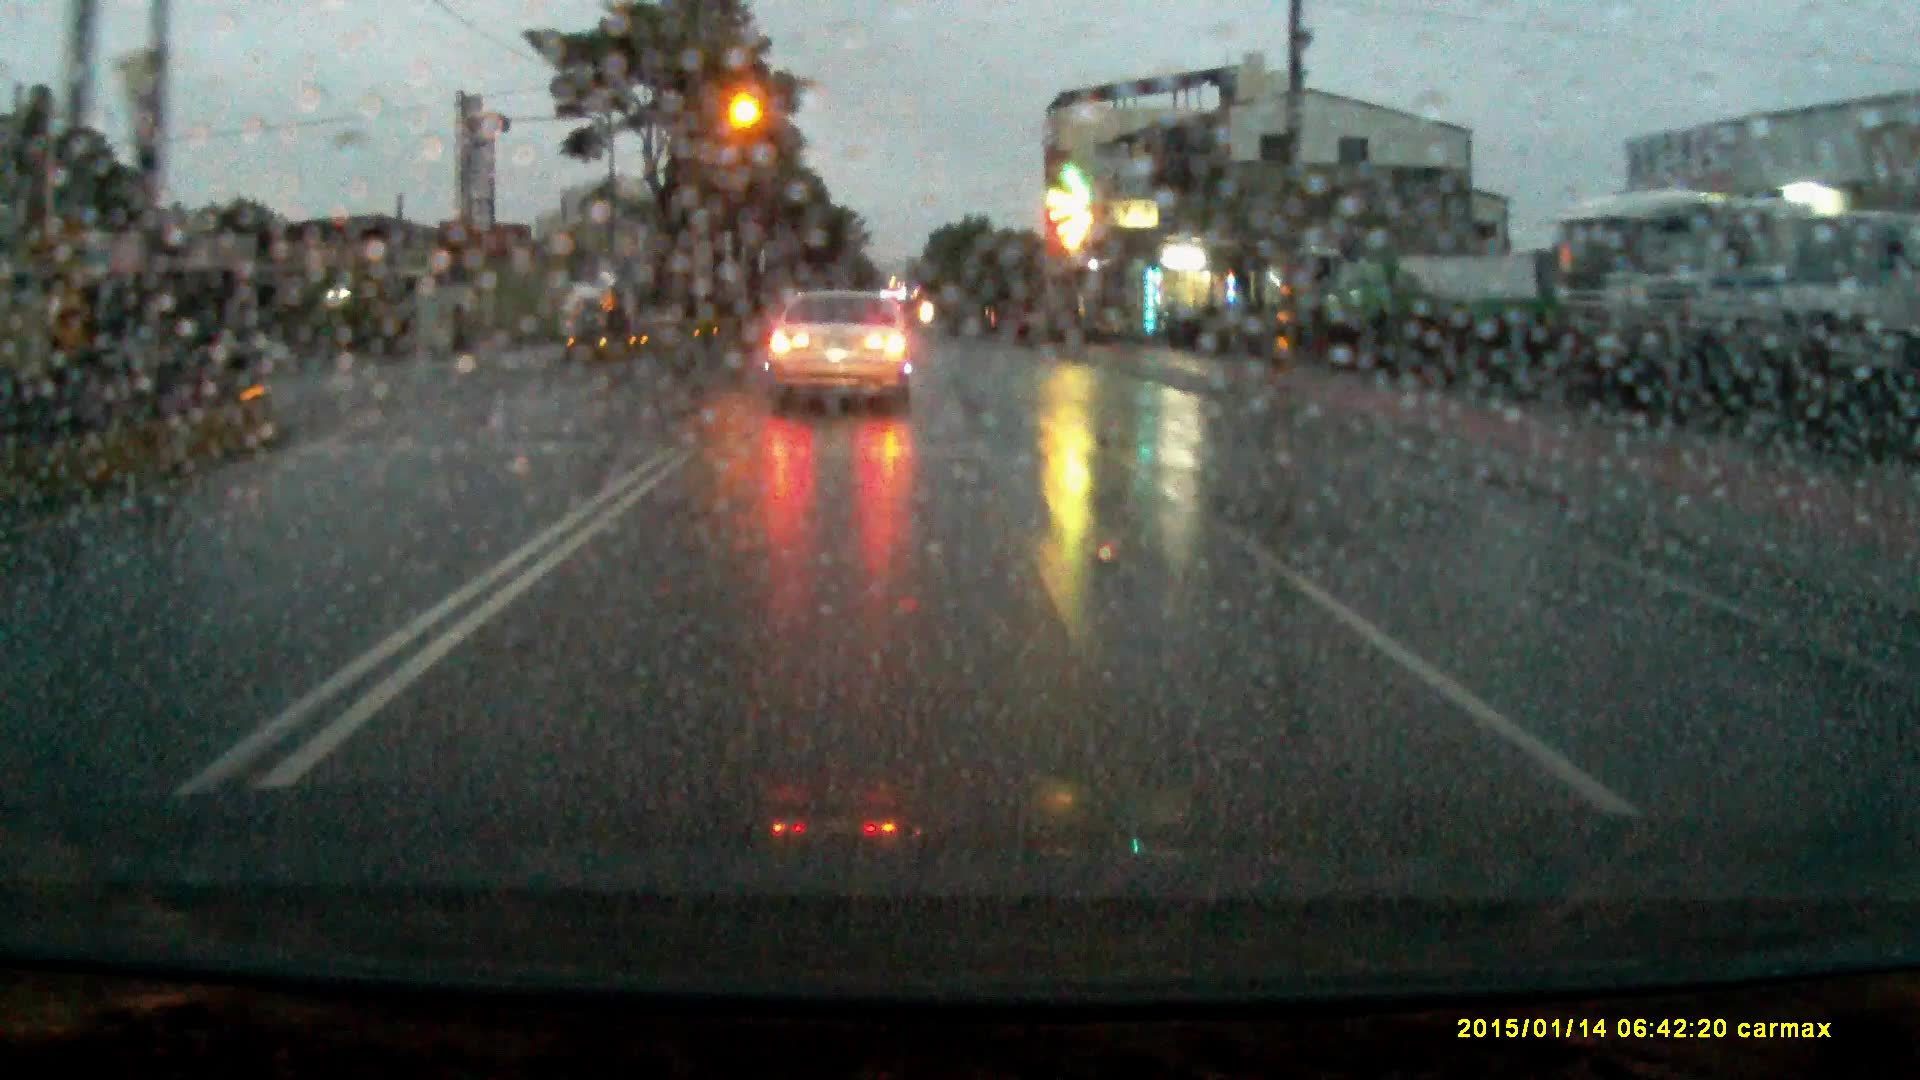vehicle: (1556, 185, 1731, 398), (1756, 208, 1920, 434), (769, 290, 920, 415), (1332, 251, 1528, 343), (1266, 240, 1356, 342), (563, 277, 622, 334)
